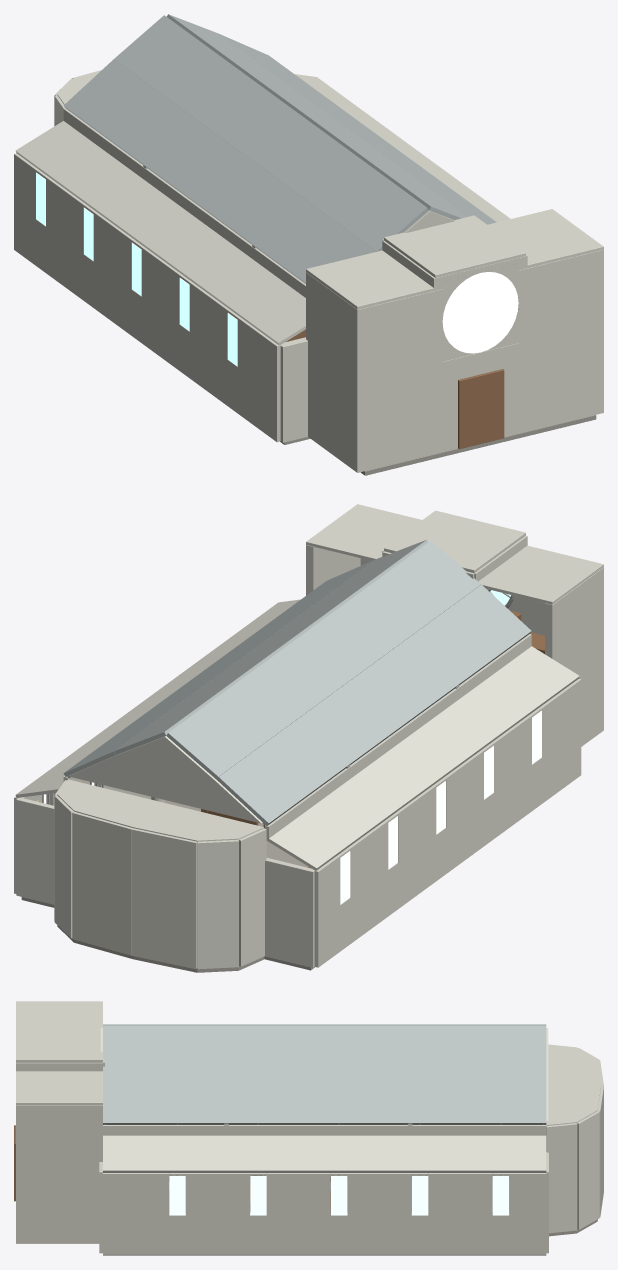
The model's file is ChurchInterior3D.fbx.
3 views of the same model, one above another, from view 1: azimuth 30°, elevation 25°; view 2: azimuth 150°, elevation 25°; view 3: azimuth 270°, elevation 25° (orthographic). The views are drawn at different scales.
Visible parts, largest first — view 1: INT_PlasteredShell, INT_RibbedVault, INT_StainedGlassNorth, INT_WestDoor, INT_Floor; view 2: INT_PlasteredShell, INT_RibbedVault, INT_StainedGlassNorth, INT_Floor; view 3: INT_PlasteredShell, INT_RibbedVault, INT_StainedGlassSouth, INT_Floor.
Boxes of the visible parts, x1,y1,x2,y2 form: INT_PlasteredShell: [14, 70, 603, 472]; INT_RibbedVault: [63, 14, 496, 283]; INT_StainedGlassNorth: [36, 172, 518, 366]; INT_WestDoor: [458, 369, 504, 448]; INT_Floor: [280, 415, 596, 475]; INT_PlasteredShell: [14, 504, 603, 969]; INT_RibbedVault: [63, 540, 531, 825]; INT_StainedGlassNorth: [340, 590, 541, 904]; INT_Floor: [21, 800, 314, 972]; INT_PlasteredShell: [16, 1001, 603, 1254]; INT_RibbedVault: [103, 1024, 546, 1124]; INT_StainedGlassSouth: [169, 1176, 508, 1215]; INT_Floor: [16, 1175, 597, 1255].
Size of the model in its own units: 1210 by 771 by 2409.
